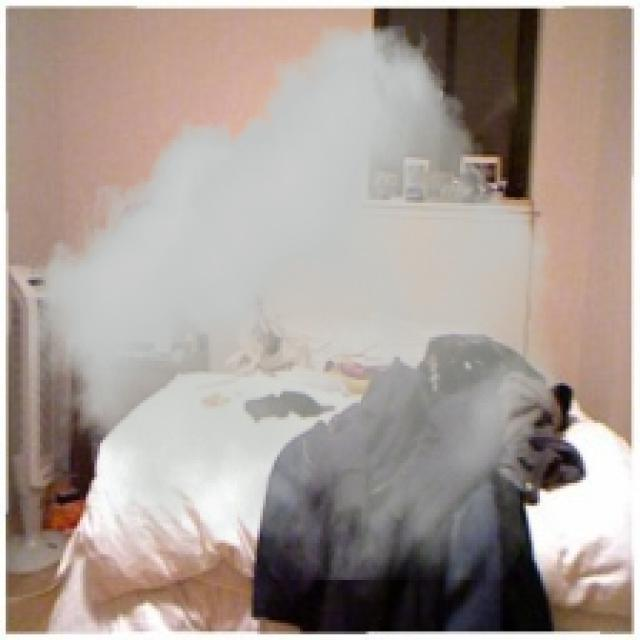Smoke: (28, 26, 560, 580)
